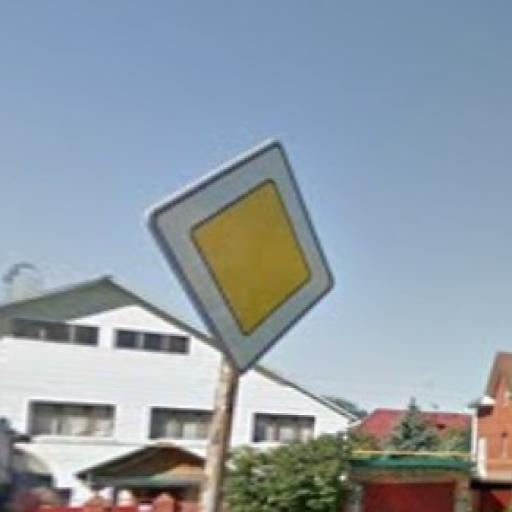traffic_sign: (145, 136, 337, 373)
